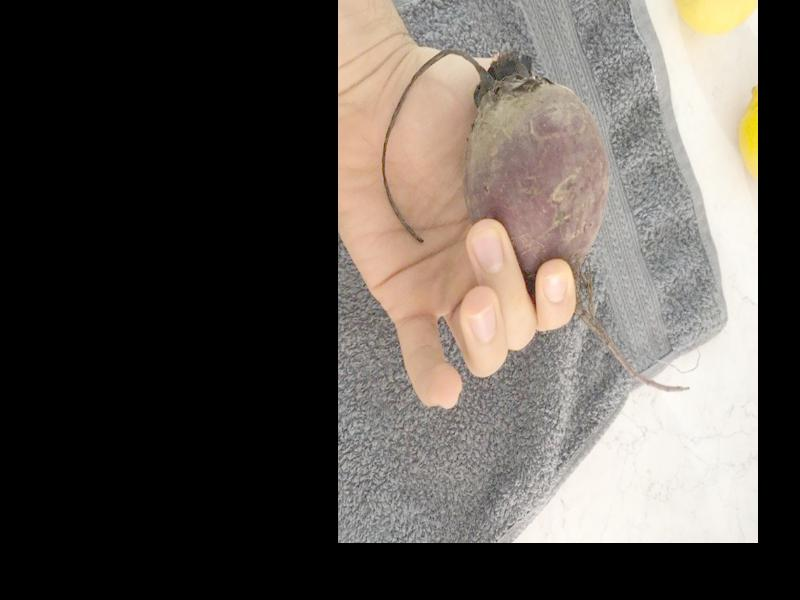Beet: (381, 52, 689, 391)
